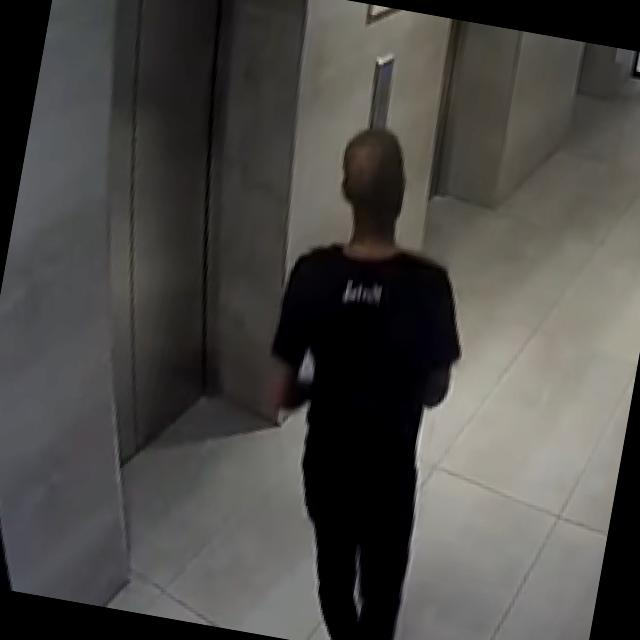person: (222, 115, 497, 640)
